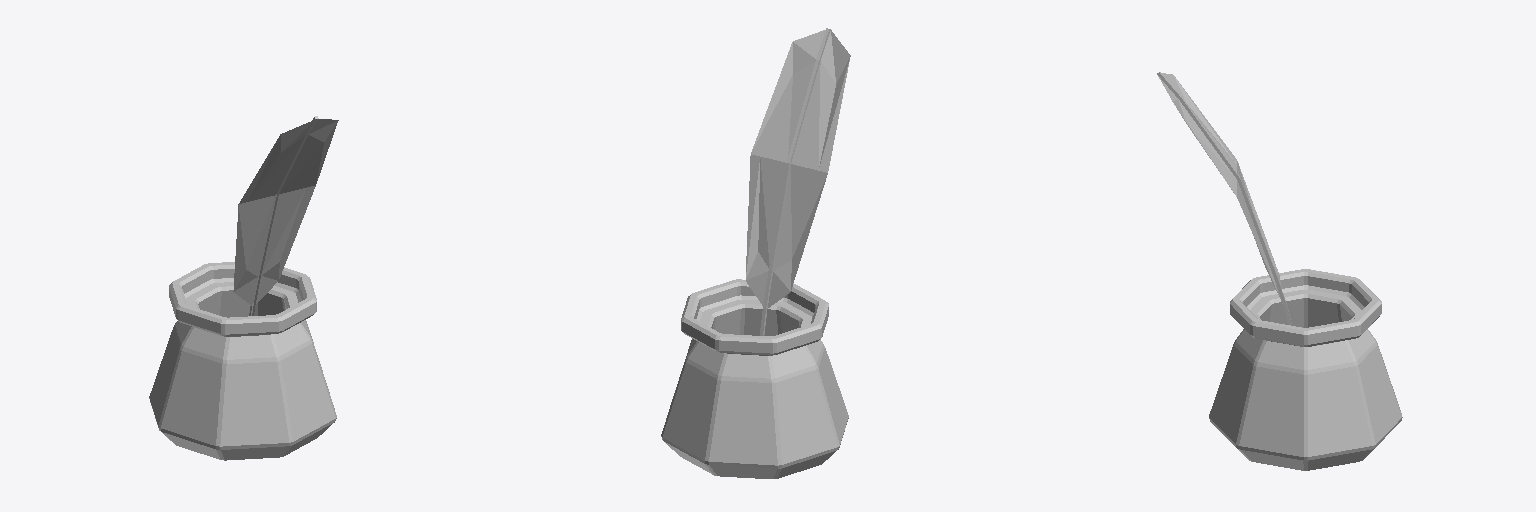
Rendered from botol tinta + Bulu.obj.
3 views of the same model, side by side, from view 1: azimuth 30°, elevation 25°; view 2: azimuth 150°, elevation 25°; view 3: azimuth 270°, elevation 25° (orthographic).
Parts seen in each view (by area): view 1: pCylinder27, pCube74; view 2: pCylinder27, pCube74; view 3: pCylinder27, pCube74.
Boxes of the visible parts, box(x1,y1,x2,y2) form: pCylinder27: box(149, 262, 336, 460); pCube74: box(233, 116, 338, 315); pCylinder27: box(661, 279, 848, 478); pCube74: box(746, 28, 850, 335); pCylinder27: box(1209, 269, 1402, 470); pCube74: box(1157, 72, 1291, 325).
Size of the model in its own units: 0.3718 by 0.7788 by 0.471.